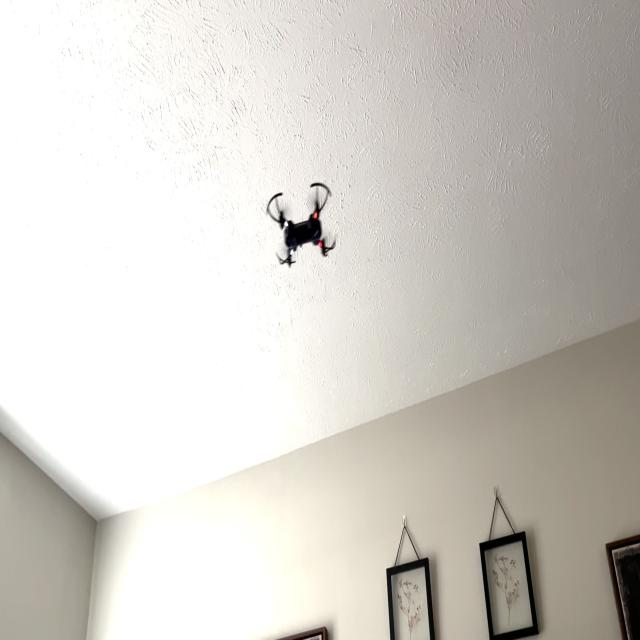drone: (259, 168, 348, 280)
